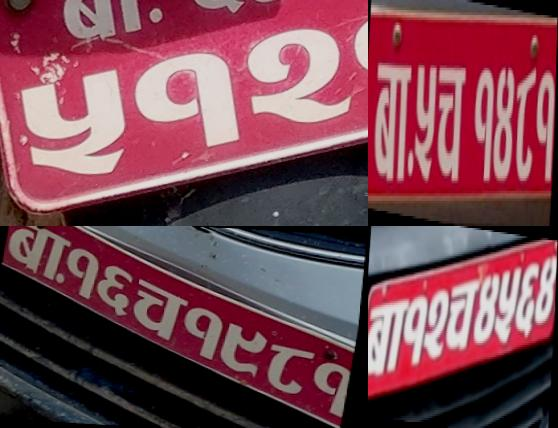0: (50, 0, 159, 43)
1: (244, 23, 361, 120), (469, 63, 497, 188), (533, 65, 557, 191), (177, 305, 229, 361), (306, 360, 355, 418), (57, 245, 104, 302), (402, 292, 427, 372)
2: (422, 283, 451, 362)
3: (131, 46, 255, 150)
4: (492, 65, 516, 191), (473, 266, 500, 350), (534, 250, 558, 329), (184, 0, 252, 15)
5: (411, 59, 438, 192), (496, 262, 521, 348)
6: (11, 62, 141, 178), (515, 252, 542, 341), (91, 265, 139, 315)
8: (511, 62, 538, 192), (262, 342, 324, 397)
9: (217, 321, 273, 377)
ba: (370, 57, 414, 192), (1, 226, 72, 281), (368, 290, 409, 382)
cha: (433, 62, 468, 192), (126, 276, 192, 343), (446, 270, 481, 358)
